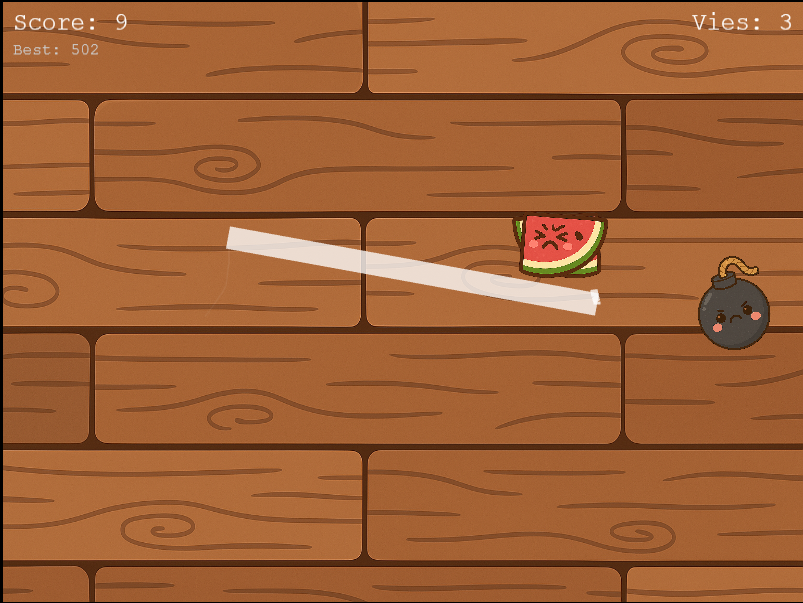bomb: (690, 250, 777, 358)
fruit: (503, 205, 612, 285)
